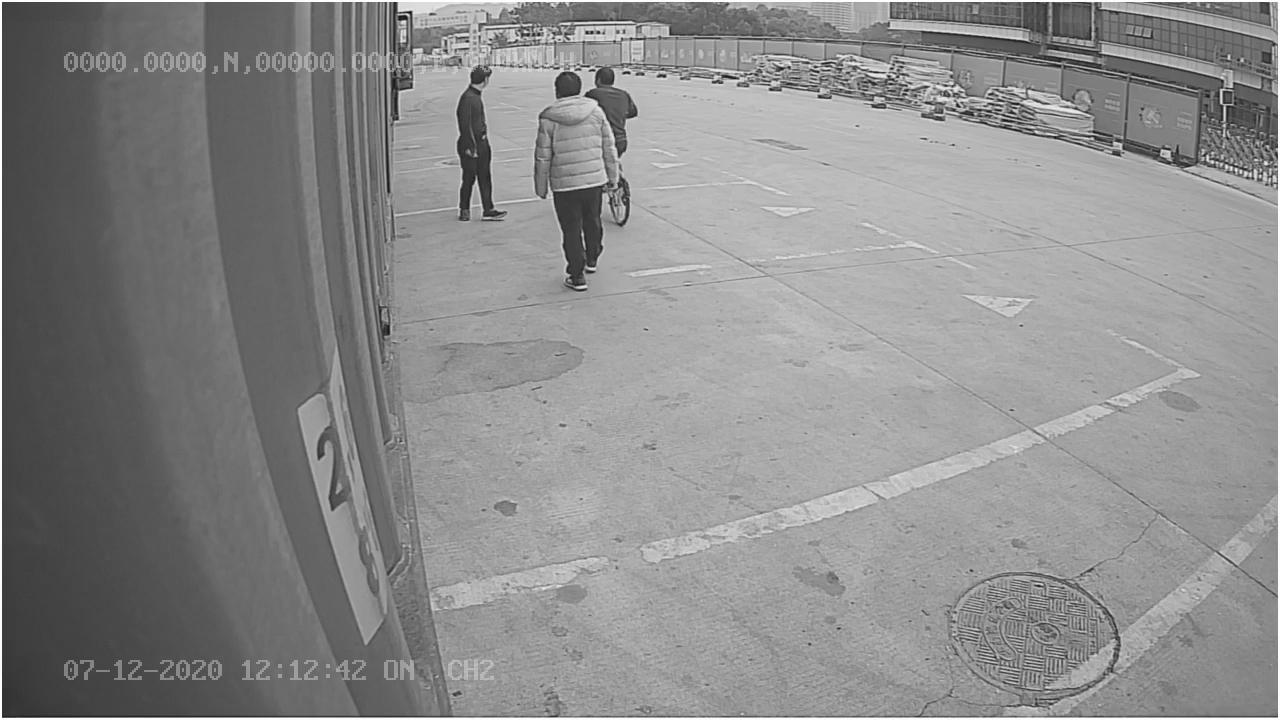person: (530, 67, 623, 295)
